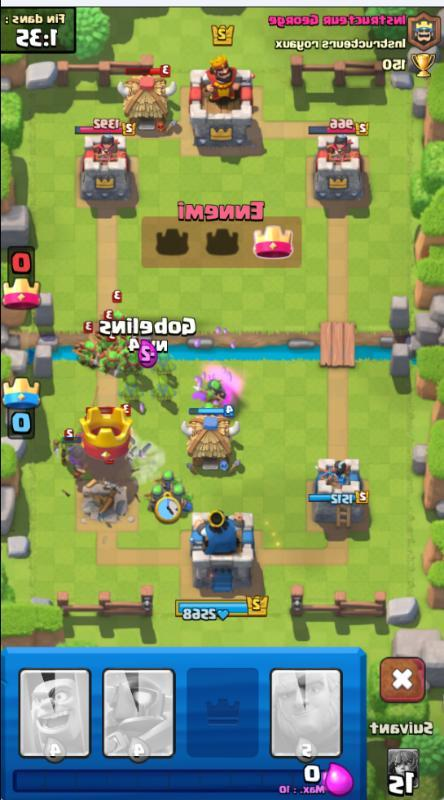enemy_goblin_hut: (116, 64, 179, 134)
enemy_goblins: (50, 426, 83, 465)
enemy_spear_goblins: (111, 347, 143, 379), (72, 336, 105, 365), (96, 339, 127, 367)
player_goblin_hut: (179, 406, 244, 476)
player_spear_goblins: (192, 375, 229, 406), (169, 480, 194, 511), (155, 466, 178, 492)
